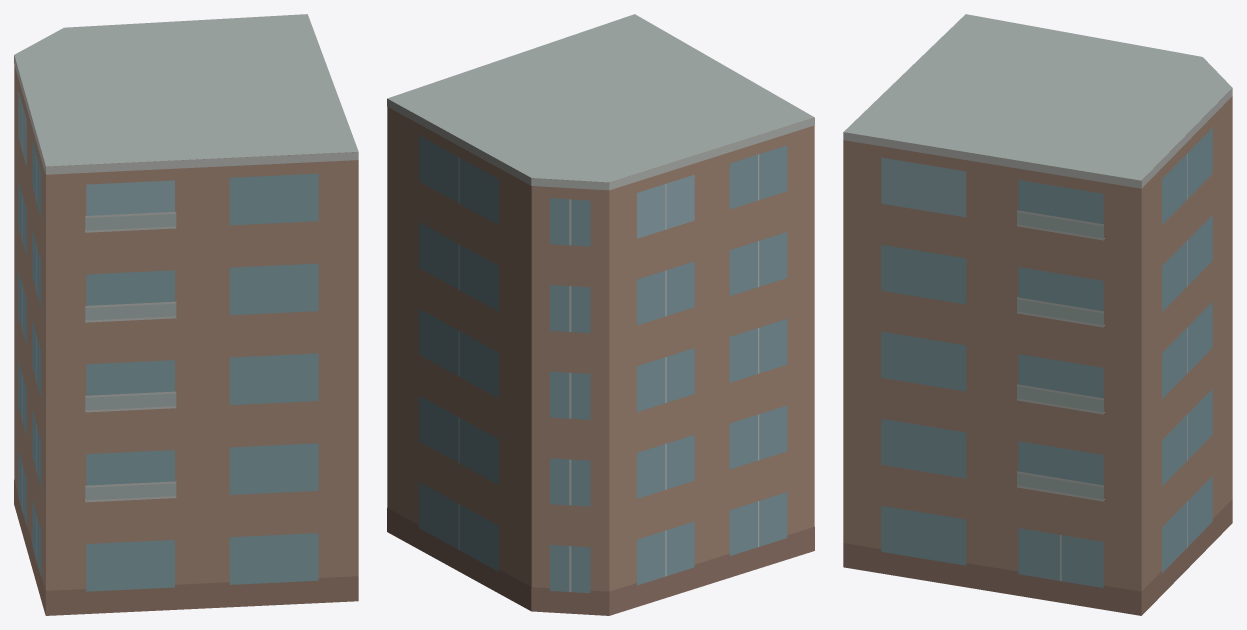
File: survey-upis-32566474.glb
3 renders of one model, left to right at view 1: azimuth 30°, elevation 25°; view 2: azimuth 150°, elevation 25°; view 3: azimuth 270°, elevation 25°, orthographic. The views are drawn at different scales.
Parts seen in each view (by area): view 1: survey-upis-32566474.tmp; view 2: survey-upis-32566474.tmp; view 3: survey-upis-32566474.tmp.
Boxes of the visible parts, x1,y1,x2,y2 form: survey-upis-32566474.tmp: (14,14,358,615); survey-upis-32566474.tmp: (387,14,814,615); survey-upis-32566474.tmp: (843,14,1232,615).
Size of the model in its own units: 10.89 by 13.25 by 10.75.
